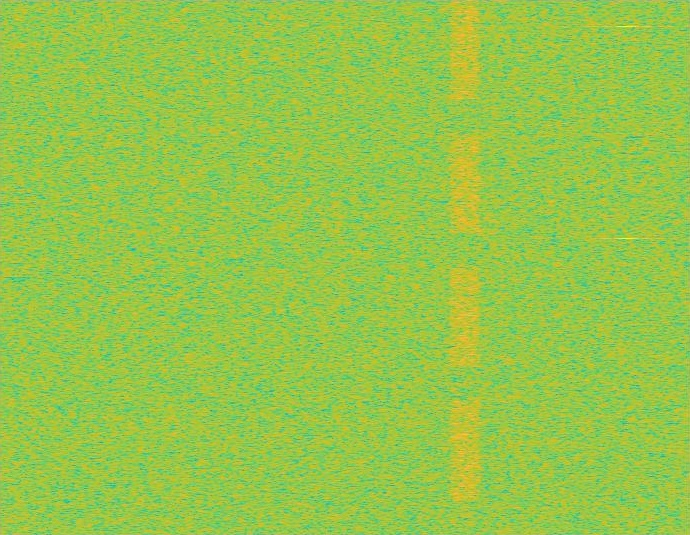5G: (448, 0, 483, 534)
Radar: (620, 0, 634, 534)
